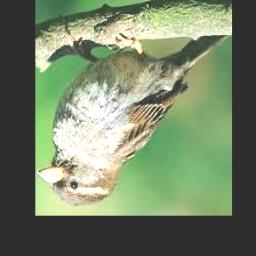Sparrow: (37, 30, 228, 206)
